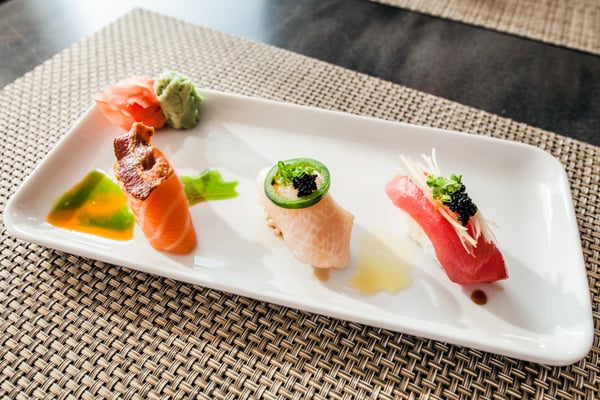soup: (112, 123, 197, 255)
